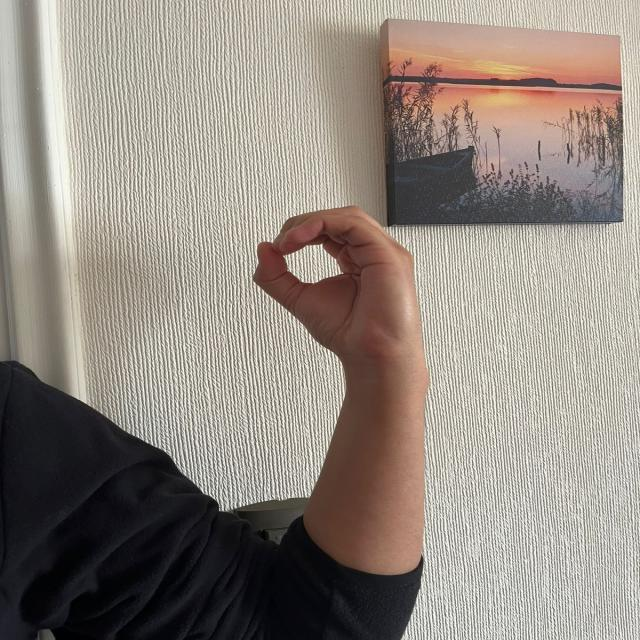O: (242, 199, 422, 358)
